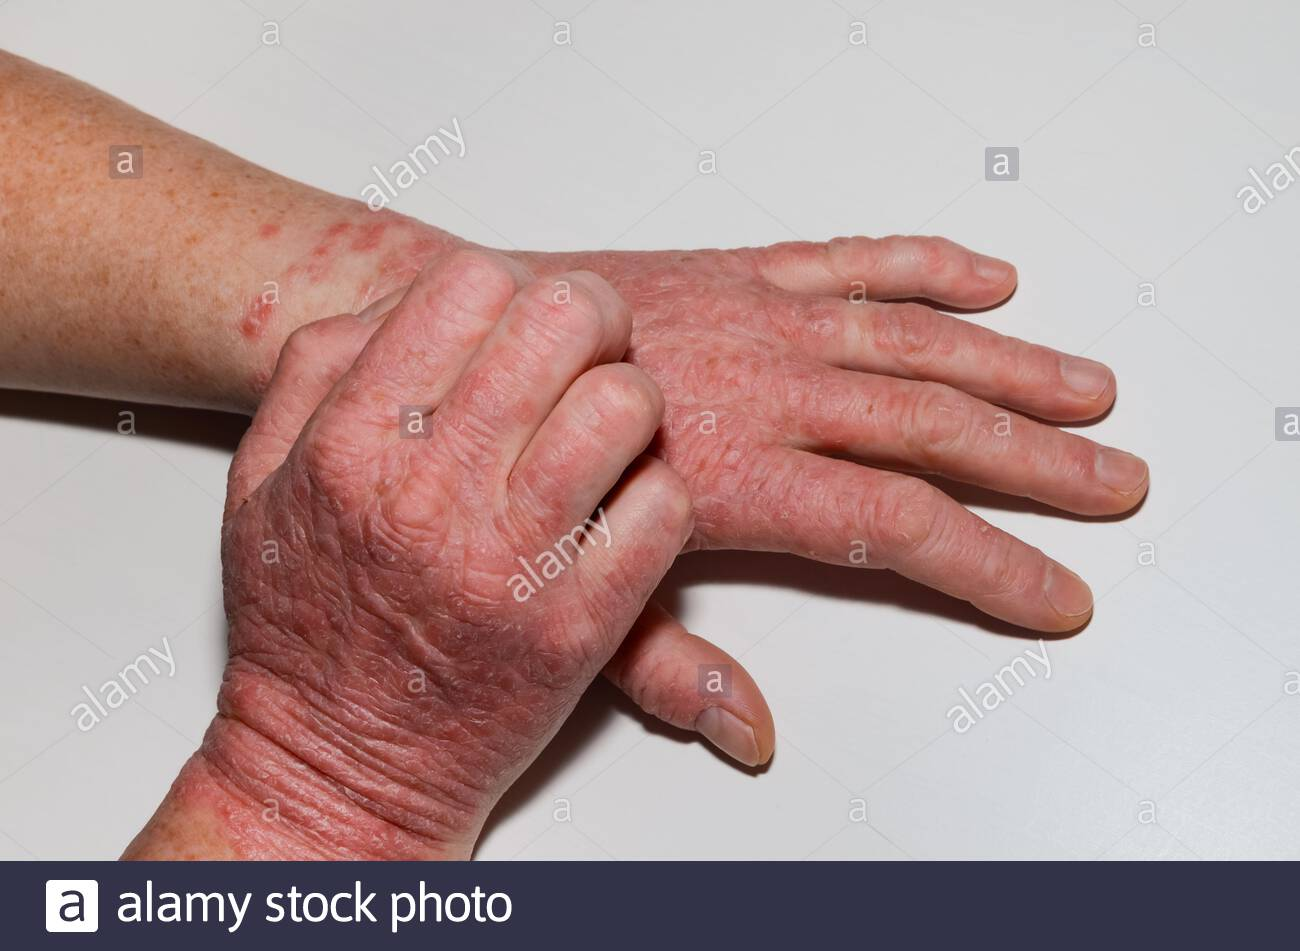Eczema: (200, 184, 922, 571)
